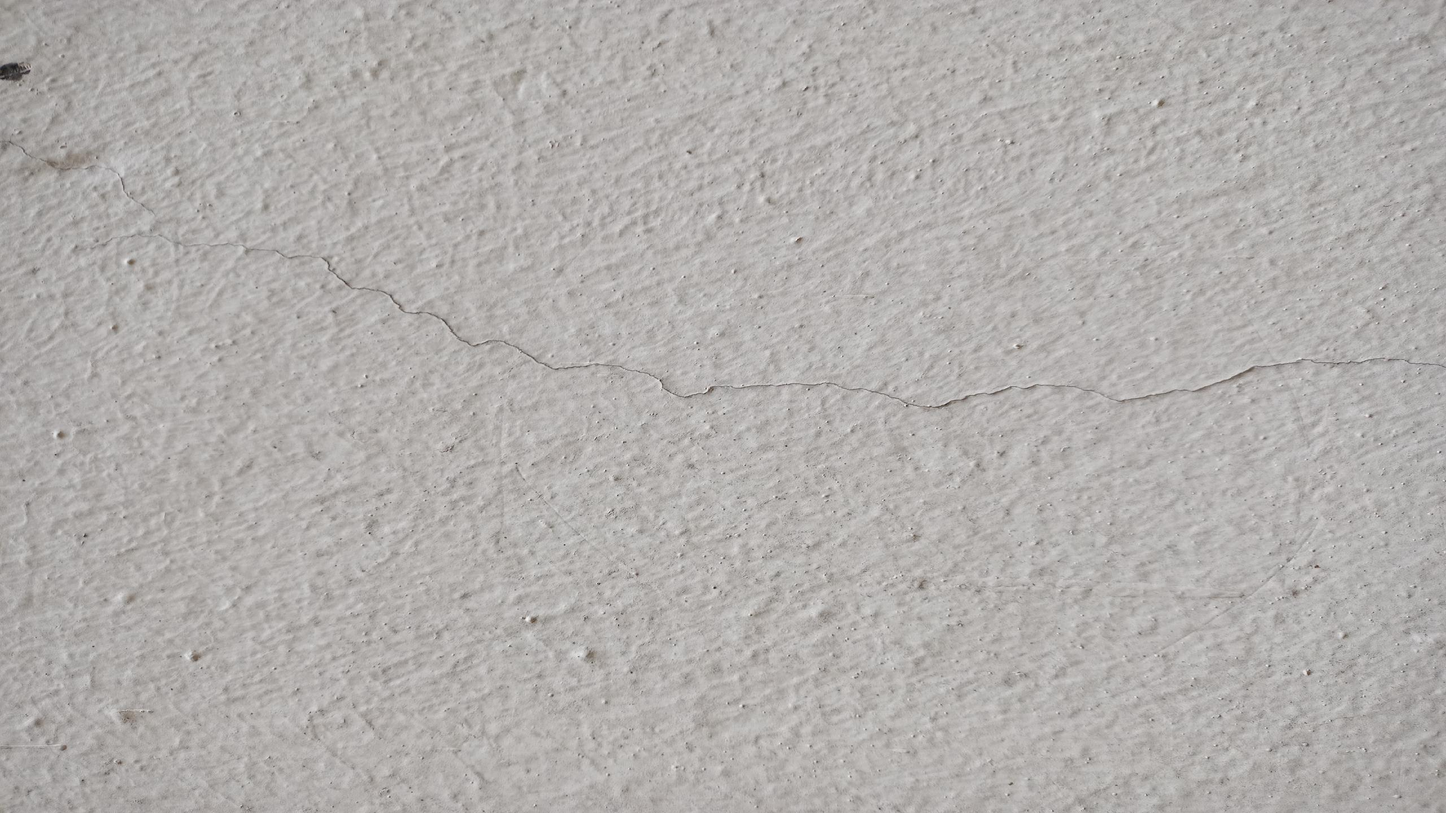crack: (3, 135, 1442, 413)
